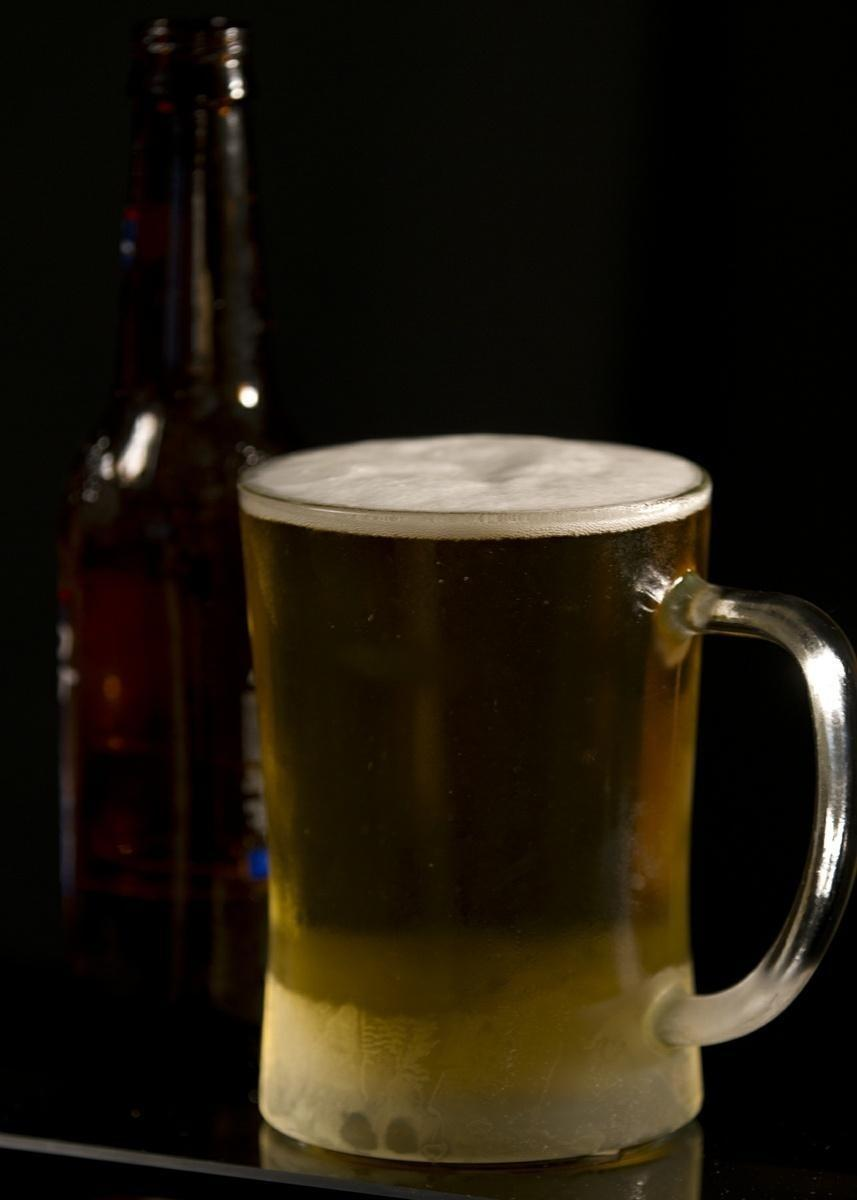bottle-glass: (46, 3, 329, 1031)
glass-mug: (227, 420, 857, 1167)
